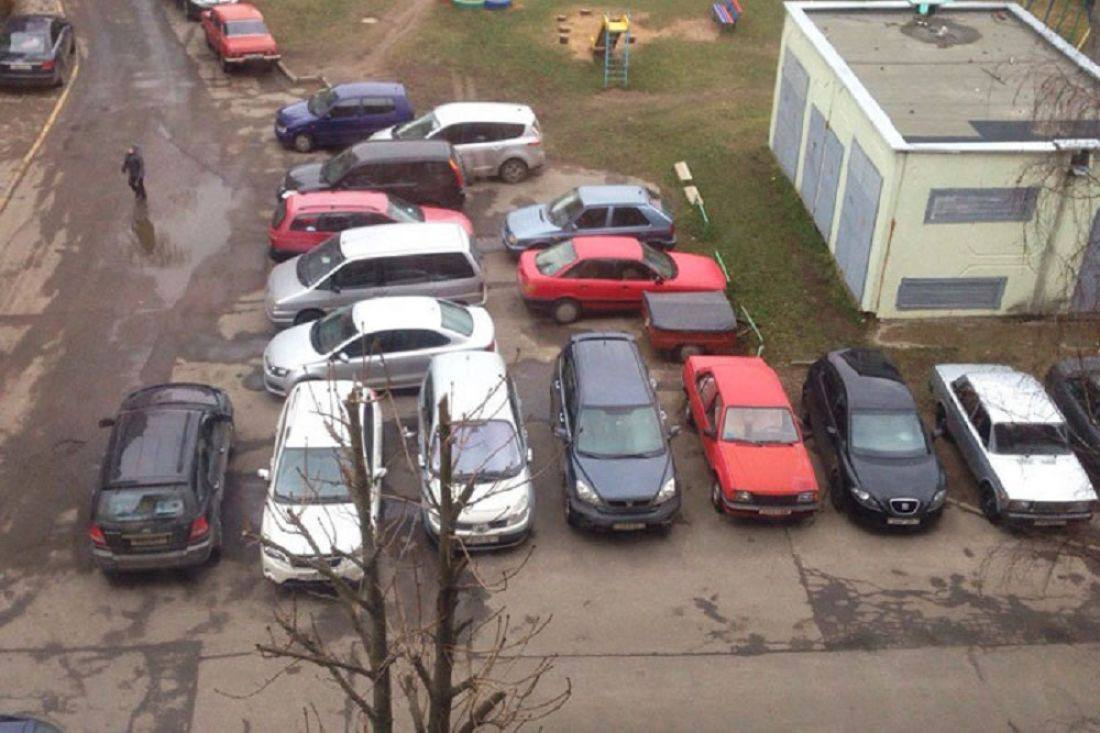Car: (88, 383, 234, 575), (930, 363, 1098, 526), (801, 347, 947, 528), (551, 332, 681, 533), (259, 380, 386, 585), (262, 297, 497, 397), (417, 351, 535, 550), (266, 223, 486, 328), (682, 355, 820, 519), (517, 237, 727, 323), (369, 101, 545, 183), (268, 191, 473, 260), (280, 141, 466, 210), (502, 185, 675, 255), (275, 81, 414, 152), (1046, 356, 1100, 474), (0, 13, 76, 88), (201, 1, 282, 70), (177, 0, 240, 21), (0, 713, 65, 733)
